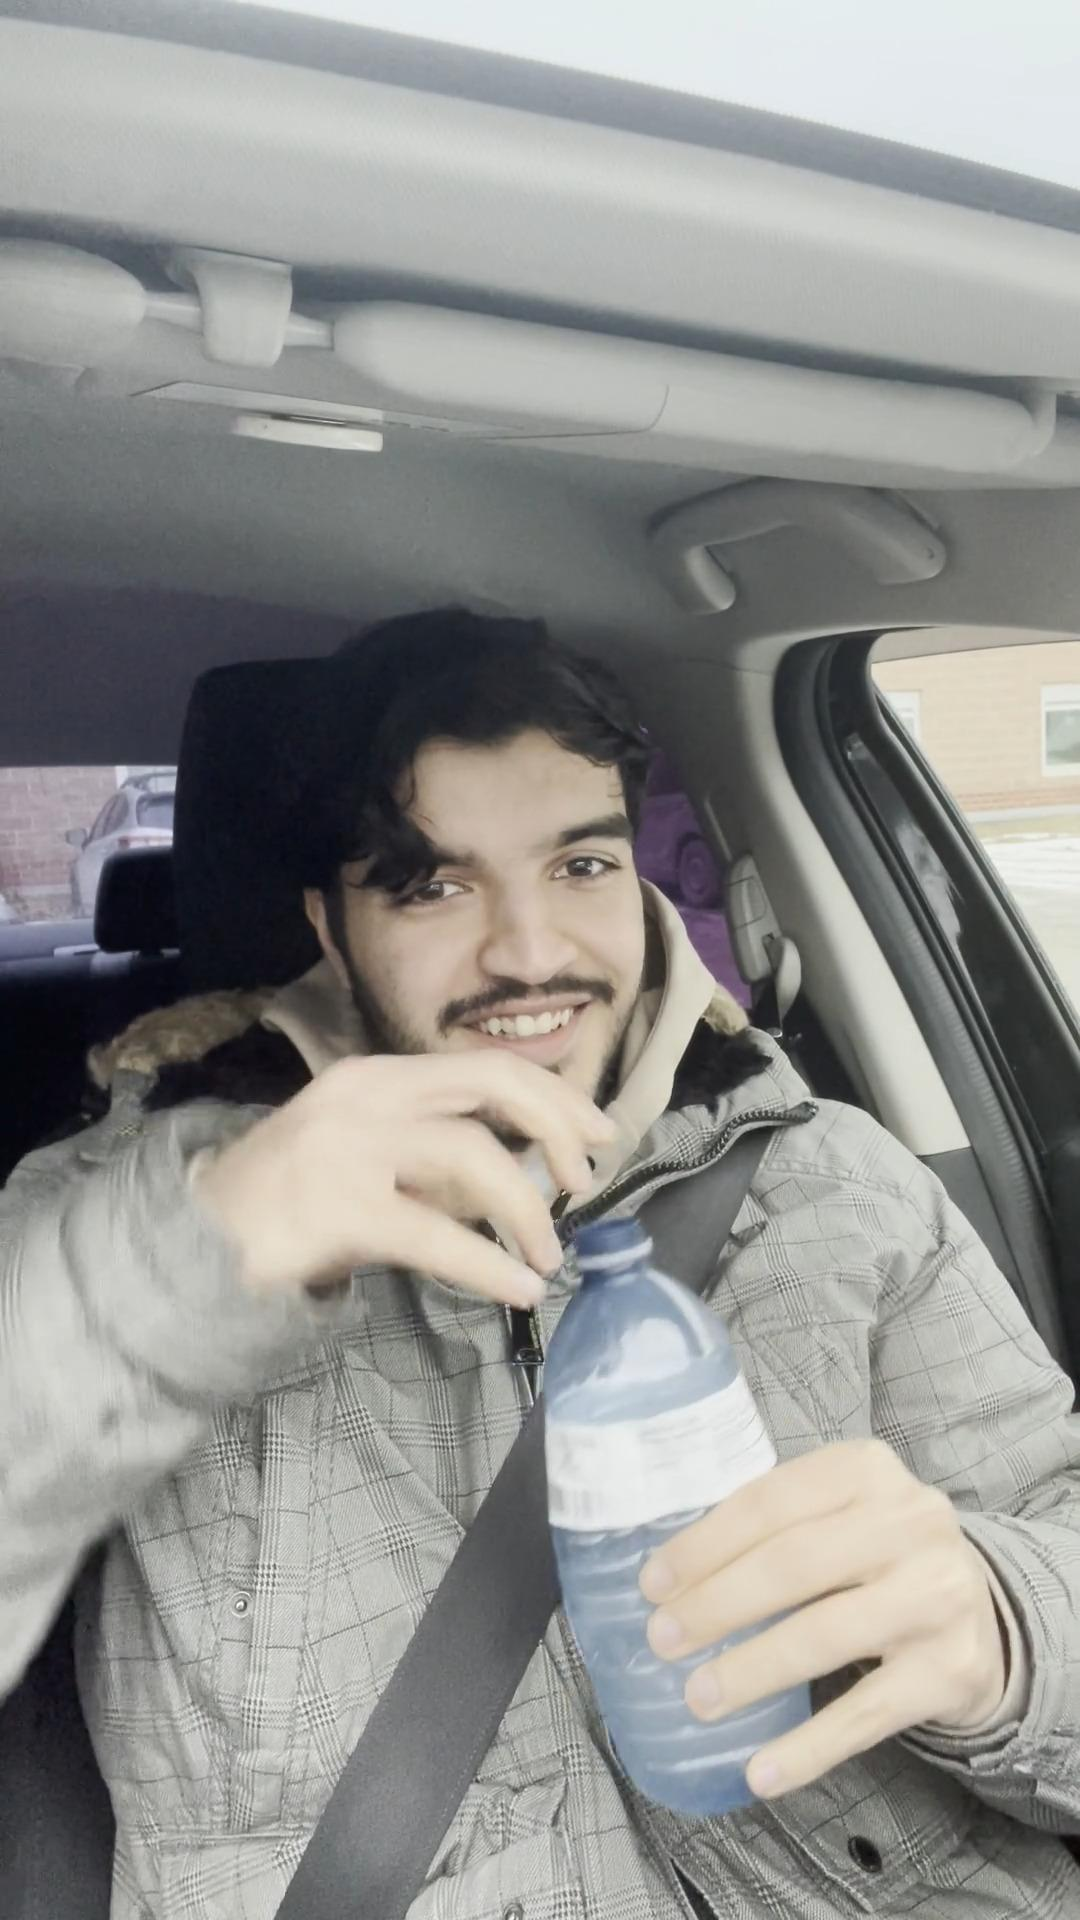drinking: (510, 1185, 895, 1865)
seatbelt: (153, 1105, 943, 1920)
